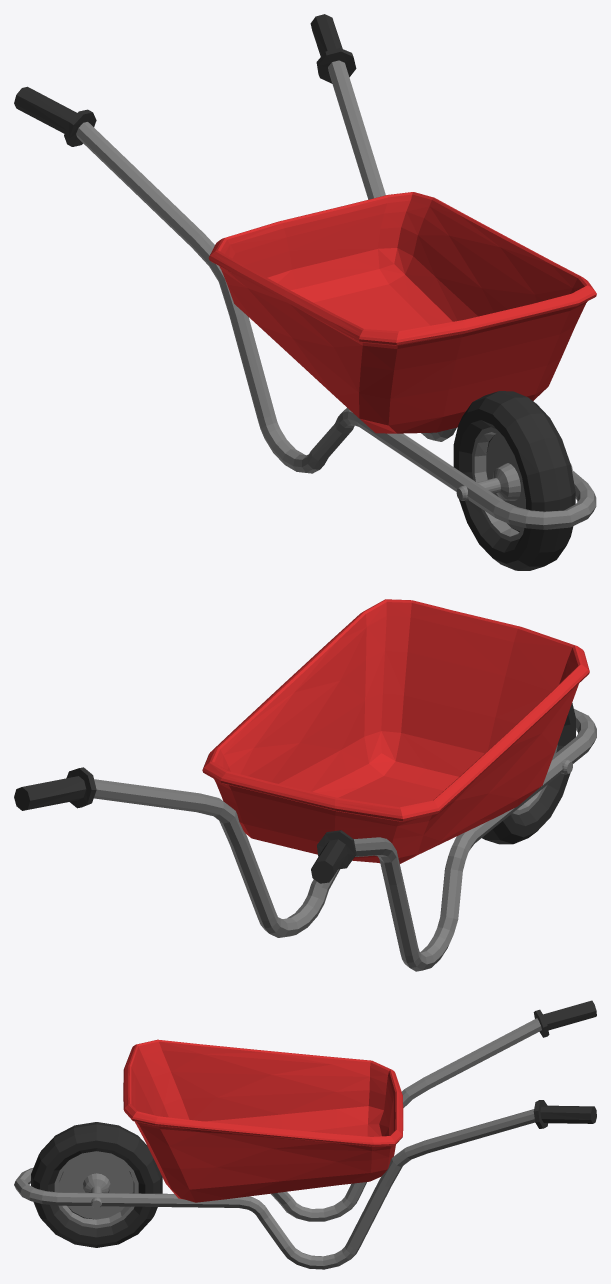
3 renders of one model, top to bottom at view 1: azimuth 30°, elevation 25°; view 2: azimuth 150°, elevation 25°; view 3: azimuth 270°, elevation 25°, orthographic. The views are drawn at different scales.
Visible parts, largest first — view 1: Wheelbarrow; view 2: Wheelbarrow; view 3: Wheelbarrow.
Boxes of the visible parts, x1,y1,x2,y2 form: Wheelbarrow: (14, 14, 596, 570); Wheelbarrow: (14, 599, 596, 971); Wheelbarrow: (14, 1000, 596, 1269).
Bounding box in the file's own units: 30.92 × 24.33 × 67.14.
1 material, 1 textured.
